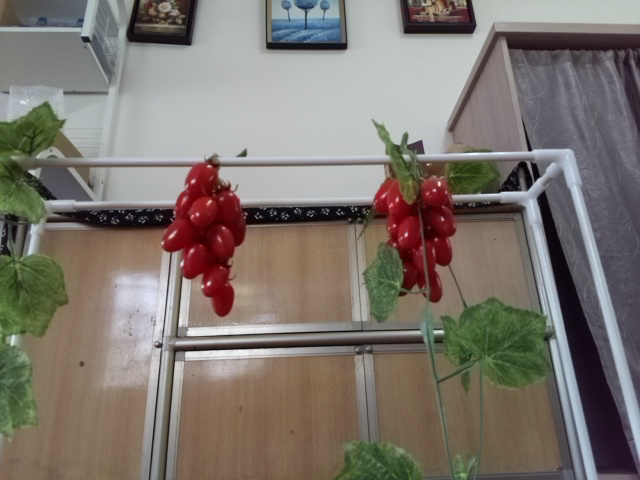fake-tomato: (158, 159, 249, 319), (370, 171, 459, 305)
